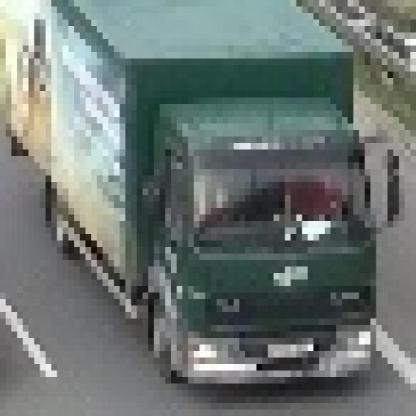truck: (1, 1, 400, 385)
